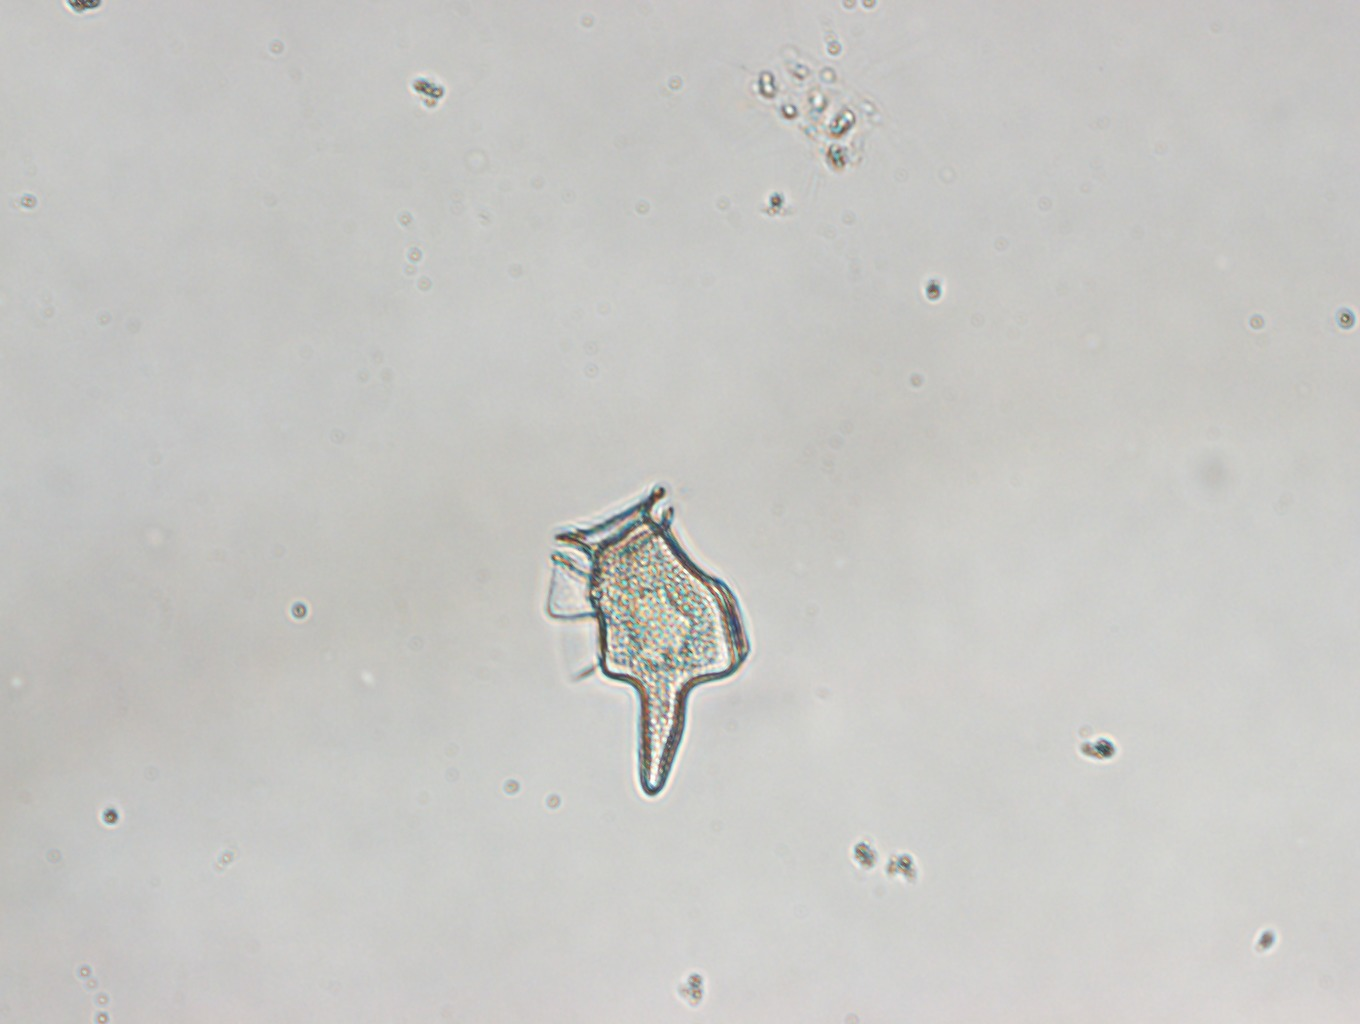dinophysis caudata: (546, 483, 751, 797)
